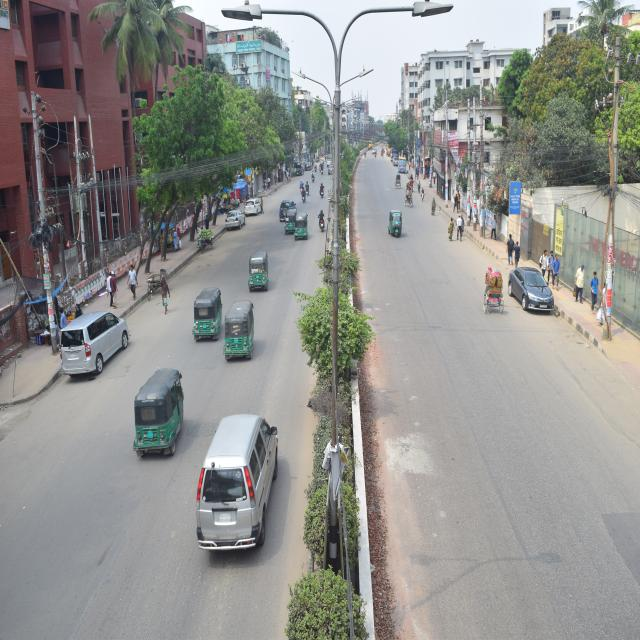car: (508, 270, 552, 315), (314, 208, 334, 234), (226, 210, 247, 233), (244, 191, 261, 215), (300, 186, 309, 204), (319, 184, 326, 200), (310, 176, 317, 183)
microbus: (193, 417, 285, 550), (59, 317, 140, 380)
